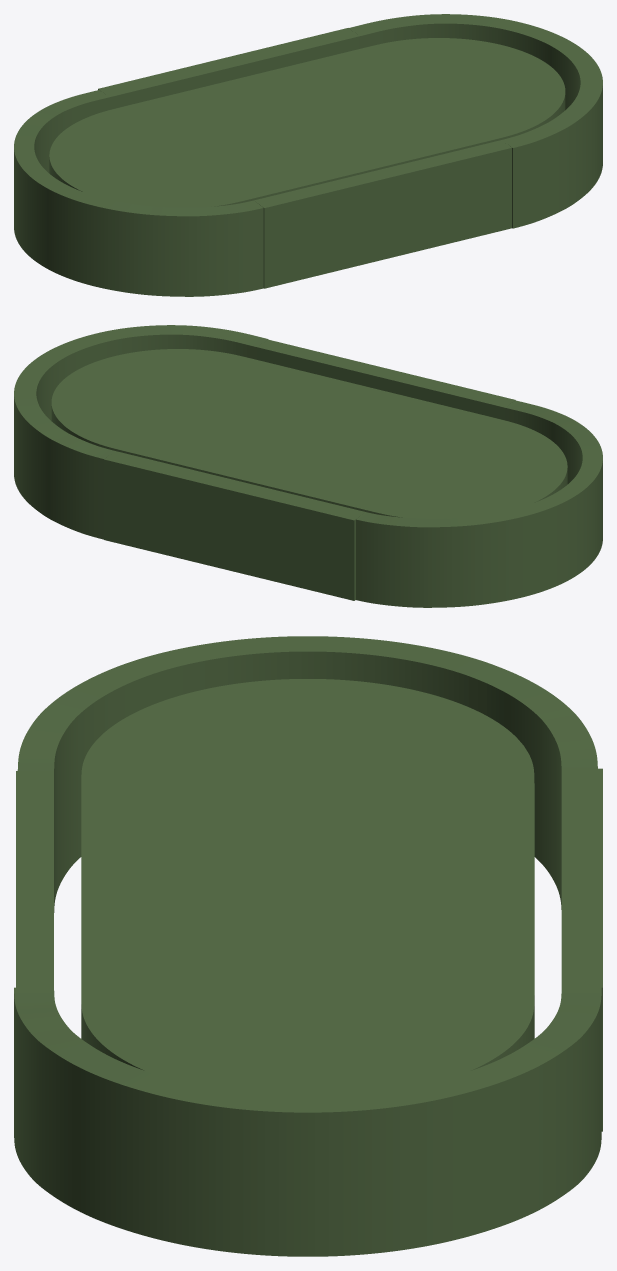
Rendered from map.fbx.
3 views of the same model, one above another, from view 1: azimuth 30°, elevation 25°; view 2: azimuth 150°, elevation 25°; view 3: azimuth 270°, elevation 25° (orthographic). The views are drawn at different scales.
Parts seen in each view (by area): view 1: Map_in, Map_out.curve, Map_out.line2, Map_out.line1; view 2: Map_in, Map_out.curve, Map_out.line1, Map_out.line2; view 3: Map_in, Map_out.curve, Map_out.line1, Map_out.line2.
Part boxes in pixels (left/top/right/bottom): Map_in: left=49, top=38, right=565, bottom=207; Map_out.curve: left=14, top=14, right=602, bottom=296; Map_out.line2: left=254, top=140, right=511, bottom=288; Map_out.line1: left=98, top=28, right=359, bottom=109; Map_in: left=51, top=349, right=567, bottom=518; Map_out.curve: left=14, top=325, right=602, bottom=607; Map_out.line1: left=104, top=451, right=365, bottom=600; Map_out.line2: left=257, top=339, right=515, bottom=420; Map_in: left=81, top=679, right=534, bottom=1095; Map_out.curve: left=14, top=636, right=601, bottom=1256; Map_out.line1: left=561, top=768, right=602, bottom=1131; Map_out.line2: left=16, top=771, right=53, bottom=987.
Bounding box in the file's own units: 62172 × 9158 × 32482.
